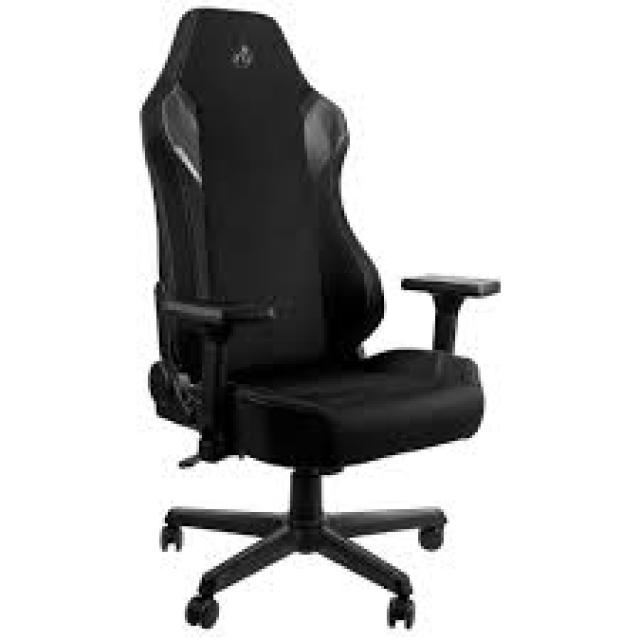chair: (90, 0, 610, 640)
